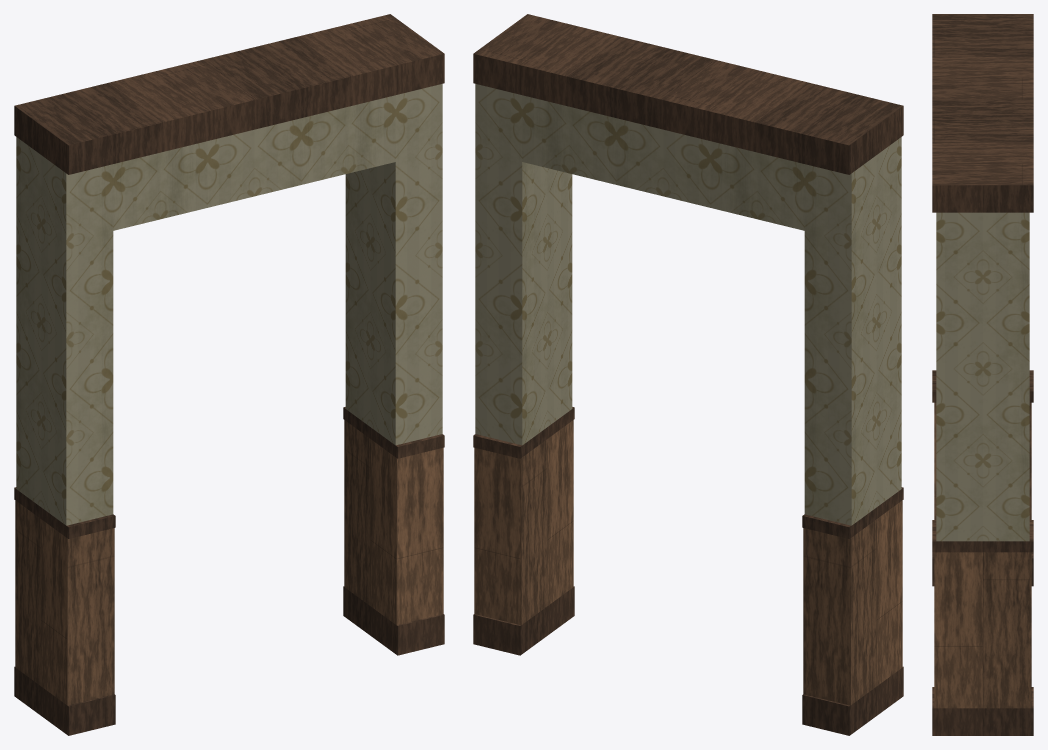
The model's file is EST_MuroVano.fbx.
The picture shows the model from 3 angles, left to right: view 1: azimuth 30°, elevation 25°; view 2: azimuth 150°, elevation 25°; view 3: azimuth 270°, elevation 25°; orthographic projection. The views are drawn at different scales.
Visible parts, largest first — view 1: EST_MuroVano; view 2: EST_MuroVano; view 3: EST_MuroVano.
Part boxes in pixels (bbox=[...]): EST_MuroVano: bbox=[14, 14, 444, 735]; EST_MuroVano: bbox=[473, 14, 903, 735]; EST_MuroVano: bbox=[932, 14, 1033, 735].
Bounding box in the file's own units: 2 × 3 × 0.5.
